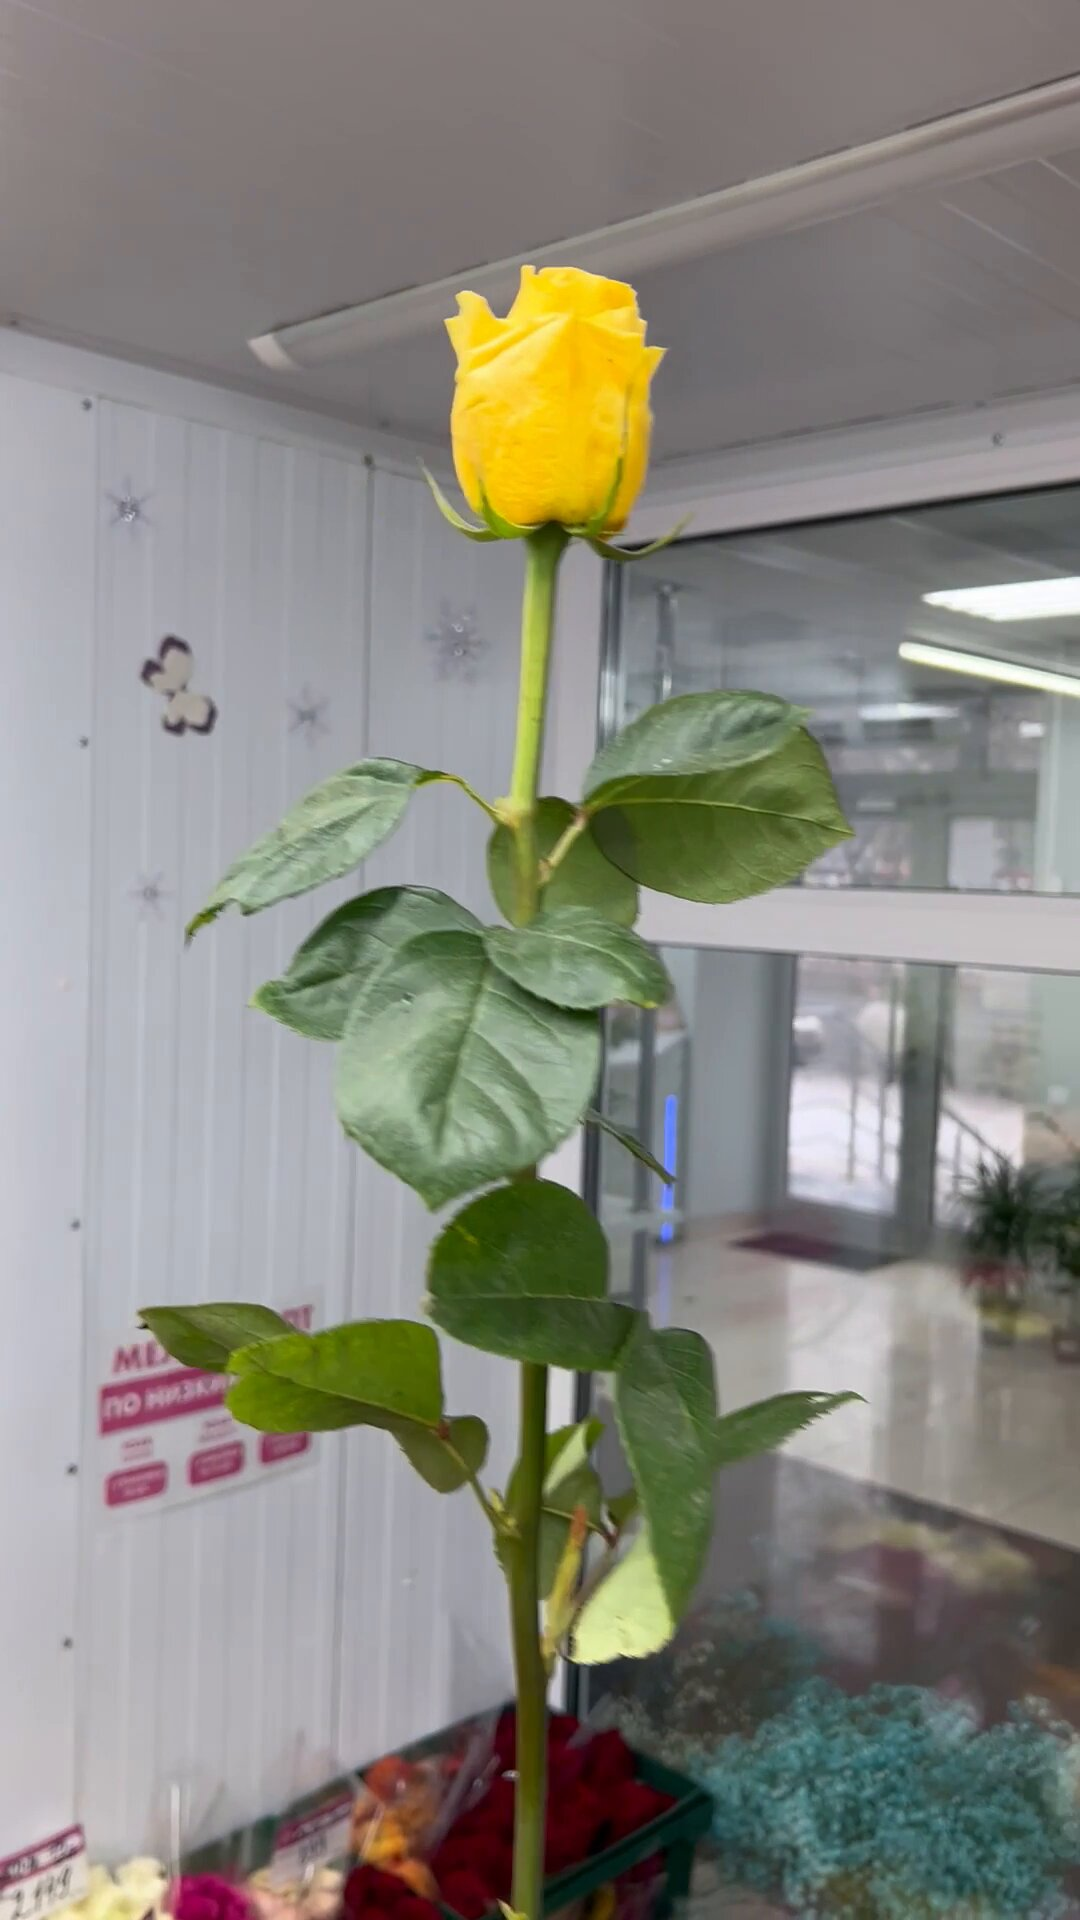rose: (223, 262, 905, 1739)
